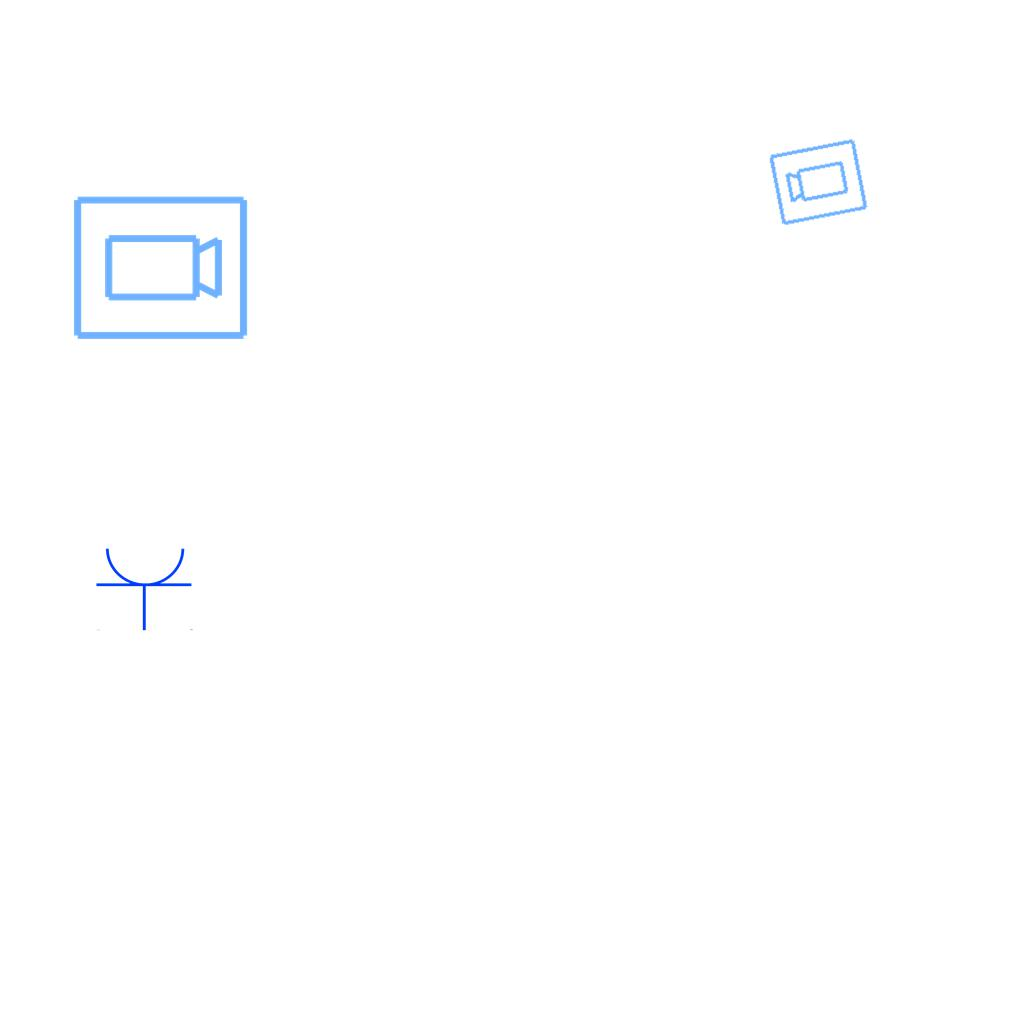KFO_Kamera_mit_Festobjektiv: (69, 192, 251, 346), (766, 135, 871, 228)
Schukosteckdose_einfach: (95, 544, 195, 631)
